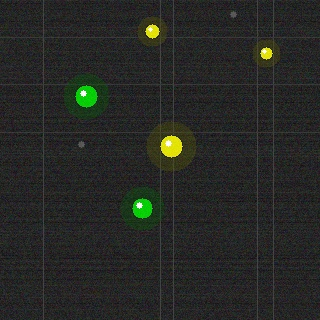green_normal: (73, 83, 99, 109), (130, 196, 154, 220)
yellow_warning: (158, 133, 184, 159), (143, 22, 161, 40), (258, 45, 274, 61)
